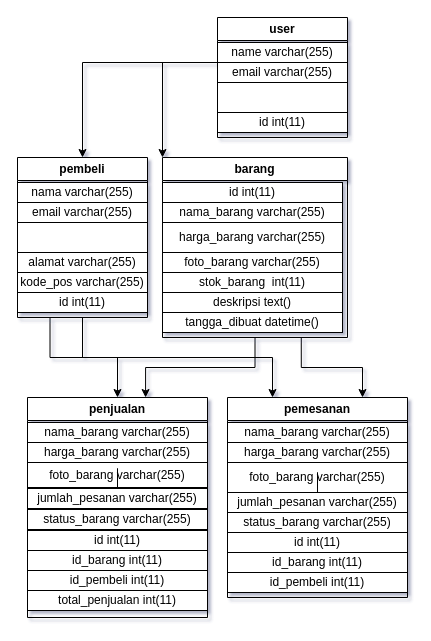
This 431x641 diagram has some shape labels left out. Each missing label, with the centre of its shape:
"no_telp varchar(255)" belongs at (x=82, y=237).
"password varchar(255)" belongs at (x=282, y=97).
